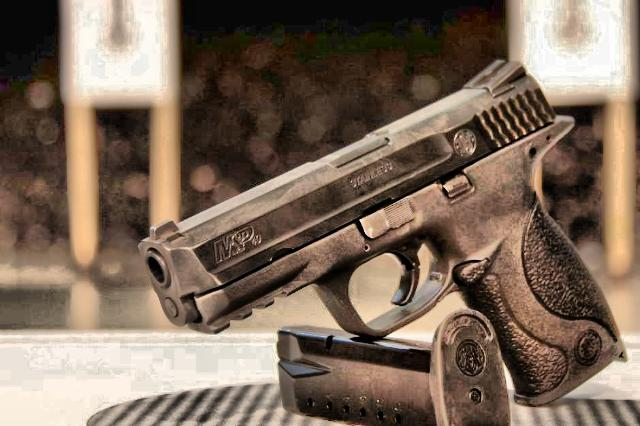pistol: (144, 32, 626, 411)
